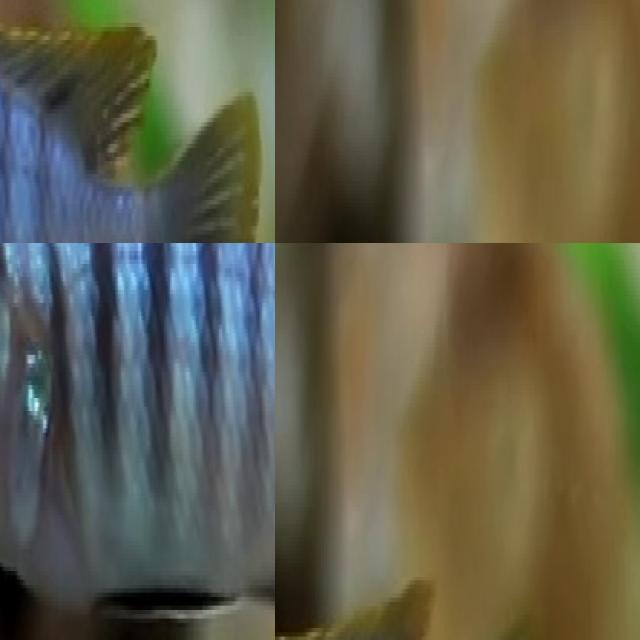fish: (0, 243, 275, 640), (0, 0, 275, 243)
